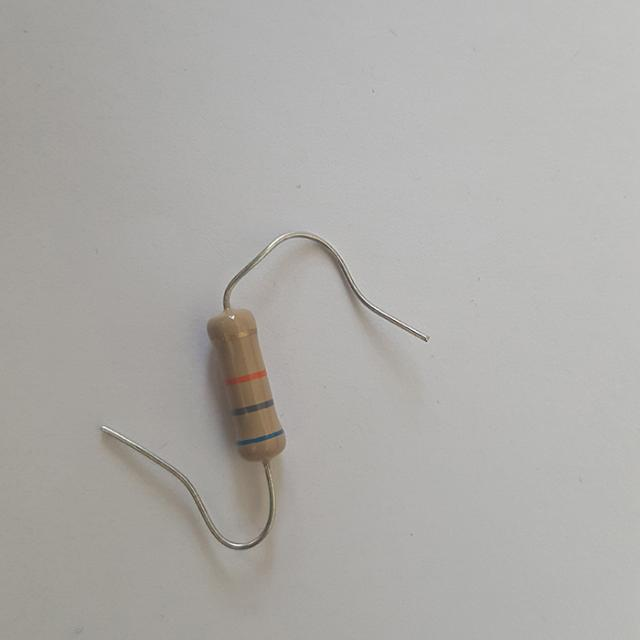blue: (235, 429, 283, 445)
gold: (214, 330, 254, 341)
grey: (232, 399, 272, 415)
orange: (228, 370, 264, 384)
resistor: (186, 285, 310, 475)
